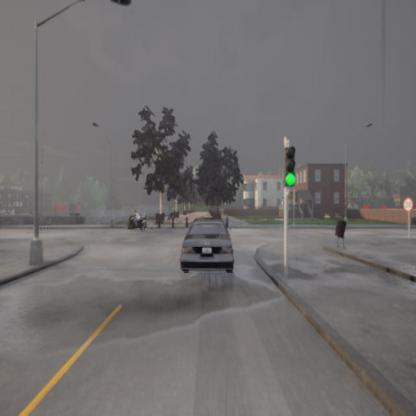motobike: (129, 210, 147, 230)
traffic_light_green: (282, 146, 296, 186)
vehicle: (180, 219, 236, 272)
